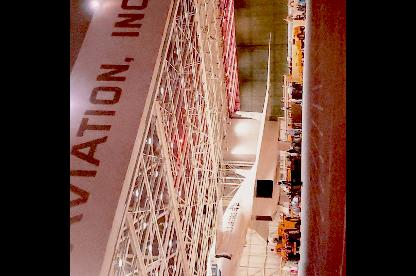U2: (206, 33, 302, 273)
